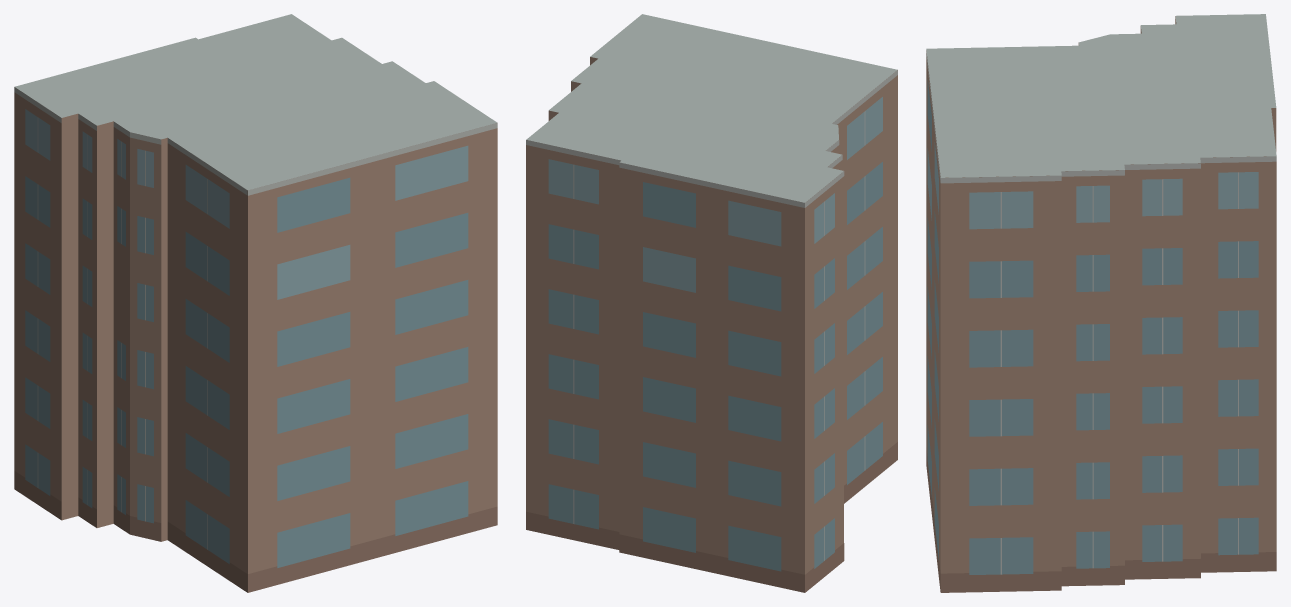
File: survey-upis-32670302.glb
3 renders of one model, left to right at view 1: azimuth 30°, elevation 25°; view 2: azimuth 150°, elevation 25°; view 3: azimuth 270°, elevation 25°, orthographic. The views are drawn at different scales.
Visible parts, largest first — view 1: survey-upis-32670302.tmp; view 2: survey-upis-32670302.tmp; view 3: survey-upis-32670302.tmp.
Boxes of the visible parts, bbox=[...] form: survey-upis-32670302.tmp: bbox=[14, 14, 497, 592]; survey-upis-32670302.tmp: bbox=[526, 14, 897, 592]; survey-upis-32670302.tmp: bbox=[926, 14, 1276, 592].
Bounding box in the file's own units: 15.51 × 18.3 × 14.01.
